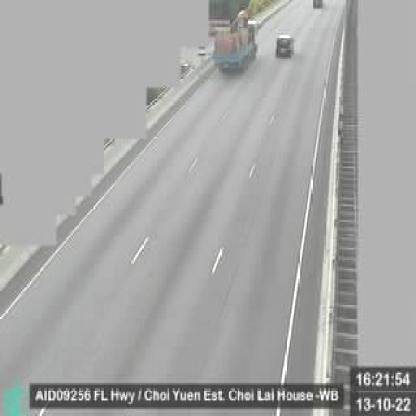Car: (275, 32, 293, 57)
Truck: (212, 12, 260, 76)
